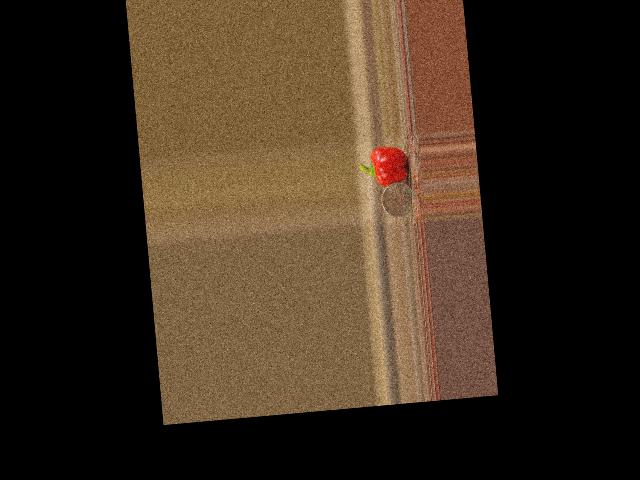bell_pepper: (358, 144, 411, 186)
